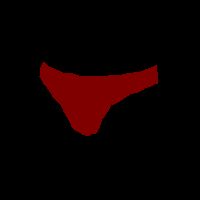mutande: (39, 61, 158, 136)
